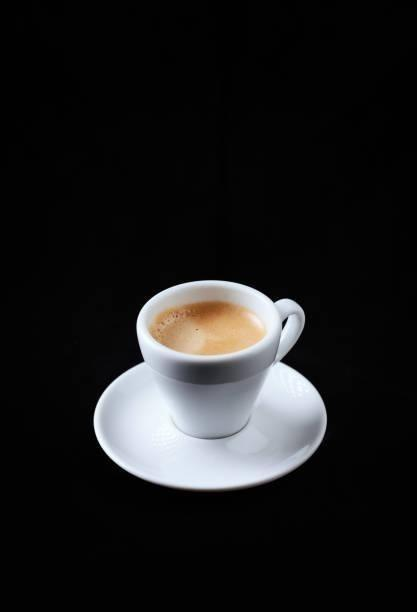cup-handle: (135, 279, 306, 440)
